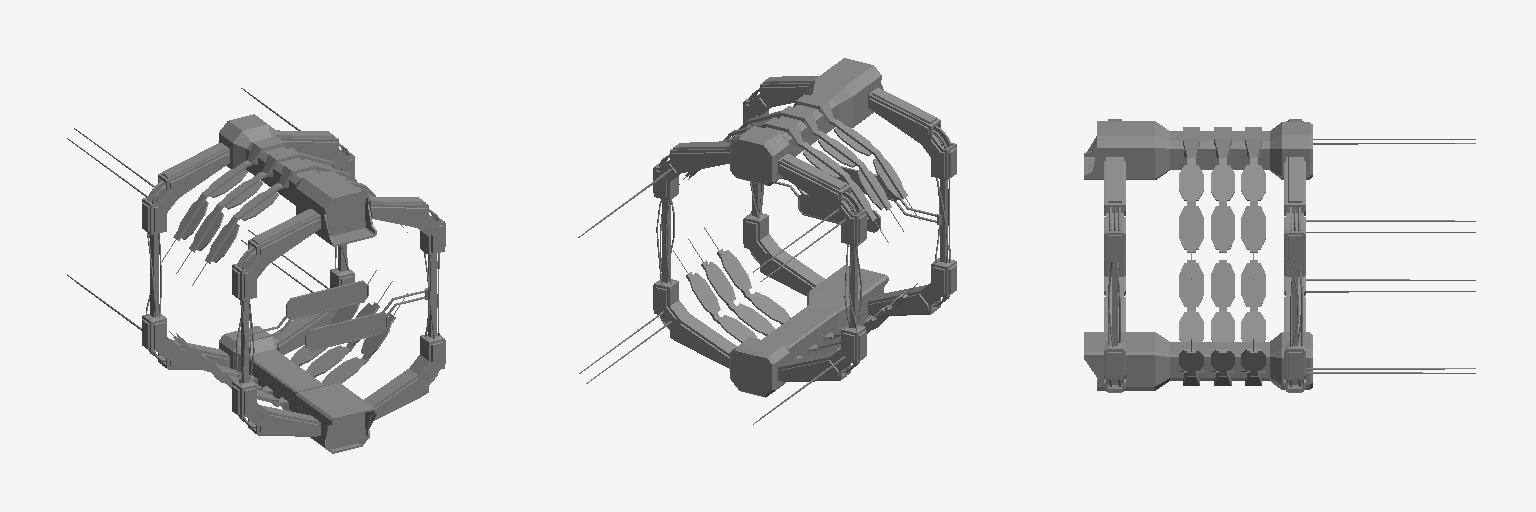
File: DockingGateGE1.obj
3 renders of one model, left to right at view 1: azimuth 30°, elevation 25°; view 2: azimuth 150°, elevation 25°; view 3: azimuth 270°, elevation 25°, orthographic.
Parts seen in each view (by area): view 1: Box002; view 2: Box002; view 3: Box002.
Part boxes in pixels (bbox=[...]): Box002: bbox=[67, 88, 445, 453]; Box002: bbox=[578, 58, 956, 424]; Box002: bbox=[1084, 119, 1475, 392].
Size of the model in its own units: 89.77 by 101 by 141.